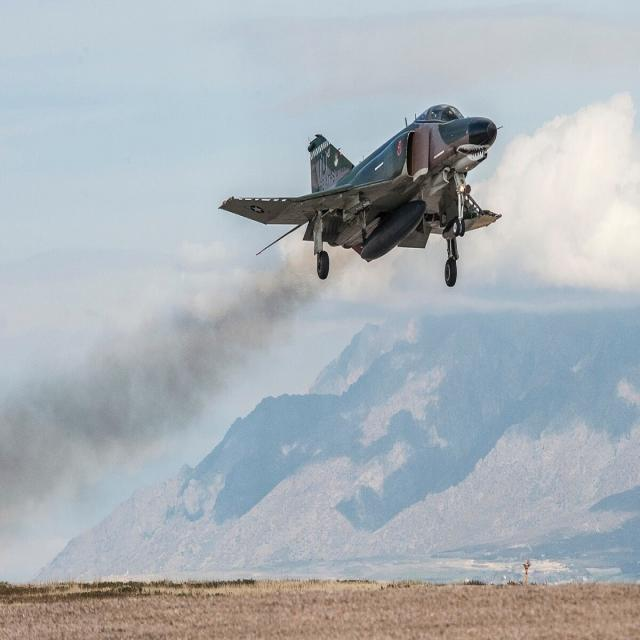MIL_Plane: (217, 103, 503, 287)
